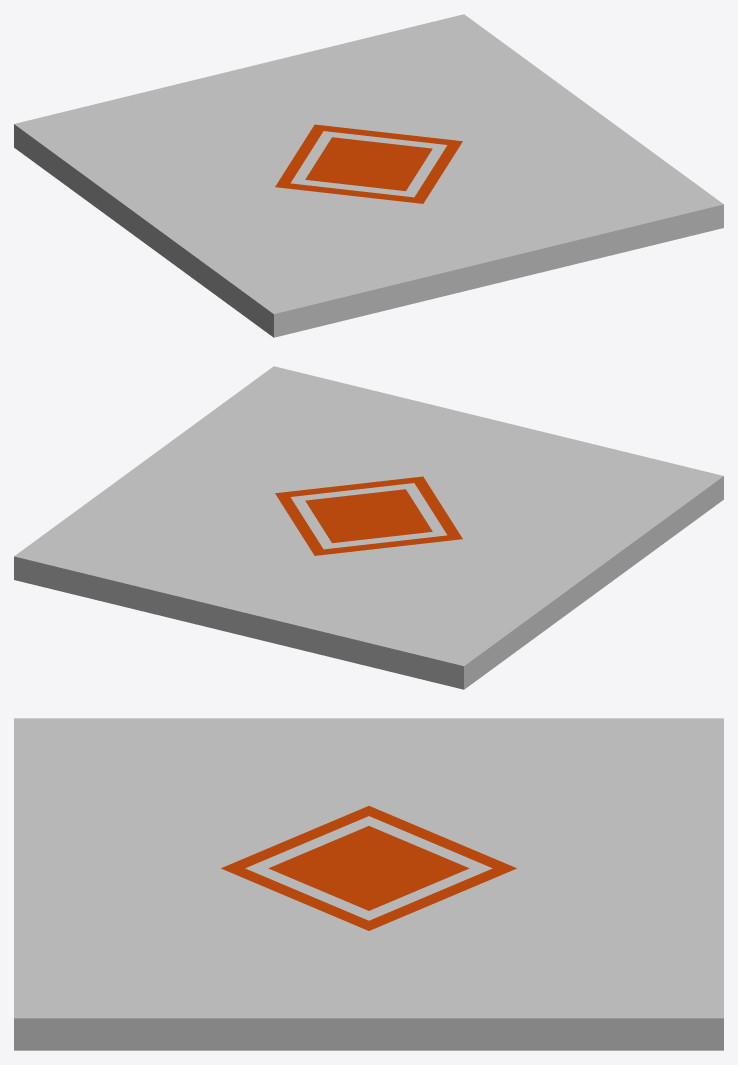
File: ground loot.obj
3 views of the same model, one above another, from view 1: azimuth 30°, elevation 25°; view 2: azimuth 150°, elevation 25°; view 3: azimuth 270°, elevation 25° (orthographic). The views are drawn at different scales.
Parts seen in each view (by area): view 1: Plane.006_Plane.010; view 2: Plane.006_Plane.010; view 3: Plane.006_Plane.010.
Boxes of the visible parts, bbox=[...] form: Plane.006_Plane.010: bbox=[14, 14, 723, 337]; Plane.006_Plane.010: bbox=[14, 366, 723, 689]; Plane.006_Plane.010: bbox=[14, 718, 723, 1050].
Size of the model in its own units: 4 by 0.2 by 4.
